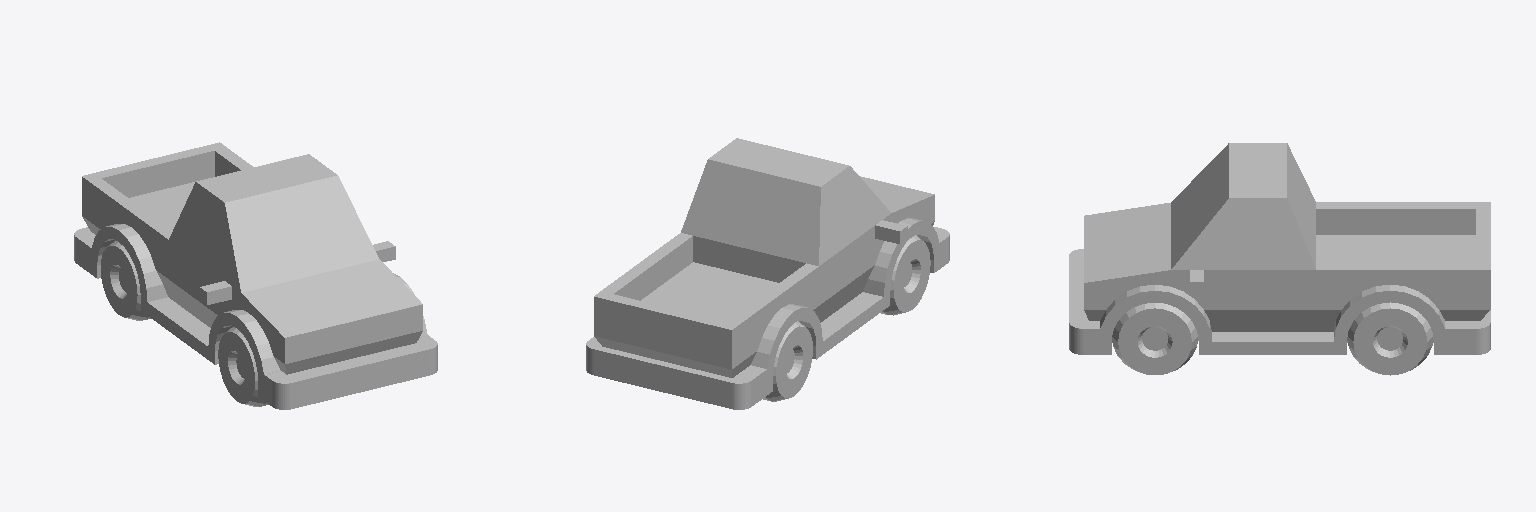
Rendered from truck.obj.
The picture shows the model from 3 angles: view 1: azimuth 30°, elevation 25°; view 2: azimuth 150°, elevation 25°; view 3: azimuth 270°, elevation 25°; orthographic projection.
Parts seen in each view (by area): view 1: body, wheel_backRight, wheel_frontRight; view 2: body, wheel_frontRight, wheel_backRight; view 3: body, wheel_frontLeft, wheel_backLeft.
Part boxes in pixels (x1,y1,x2,y2): body: (74, 142, 437, 409); wheel_backRight: (101, 240, 150, 320); wheel_frontRight: (218, 327, 268, 406); body: (586, 138, 949, 409); wheel_frontRight: (881, 235, 930, 315); wheel_backRight: (763, 321, 812, 401); body: (1069, 143, 1490, 354); wheel_frontLeft: (1112, 303, 1197, 374); wheel_backLeft: (1347, 302, 1432, 375).
Bounding box in the file's own units: 1.12 × 0.975 × 2.17.